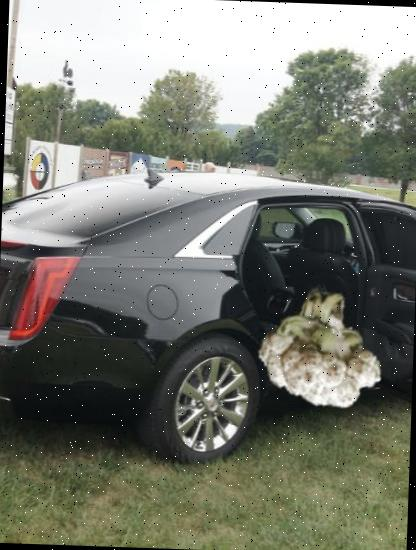Cauliflower: (260, 286, 390, 416)
